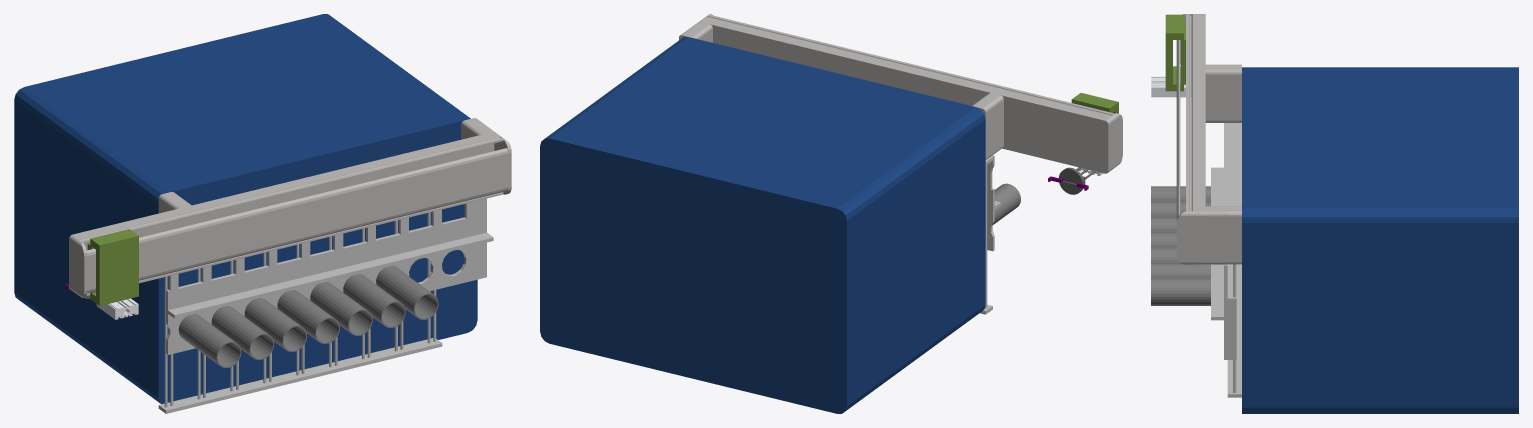
The model's file is lid_install_site.dae.
The picture shows the model from 3 angles, left to right: view 1: azimuth 30°, elevation 25°; view 2: azimuth 150°, elevation 25°; view 3: azimuth 270°, elevation 25°; orthographic projection. The views are drawn at different scales.
Parts seen in each view (by area): view 1: install_lid, workbase, workbase2, tong, workbase1, huatai, workbase3, qigang; view 2: install_lid, workbase, tong, install_j1, huatai, workbase1, workbase2; view 3: install_lid, workbase, tong, workbase1, workbase2, huatai, workbase3, qigang.
Part boxes in pixels (x1,y1,x2,y2): install_lid: (14,14,477,404); workbase: (69,118,511,297); workbase2: (166,213,493,354); tong: (178,266,438,368); workbase1: (158,212,442,413); huatai: (87,229,138,305); workbase3: (168,198,486,290); qigang: (96,298,138,319); install_lid: (540,37,985,413); workbase: (679,14,1122,173); tong: (993,183,1020,224); install_j1: (1058,167,1095,194); huatai: (1071,93,1118,113); workbase1: (980,156,992,314); workbase2: (987,188,1001,251); install_lid: (1242,67,1518,413); workbase: (1176,14,1241,264); tong: (1151,186,1210,305); workbase1: (1227,123,1241,397); workbase2: (1211,167,1236,359); huatai: (1165,14,1185,91); workbase3: (1224,123,1227,298); qigang: (1151,76,1185,97).
Size of the model in its own units: 1.3 by 1.01 by 0.628.
